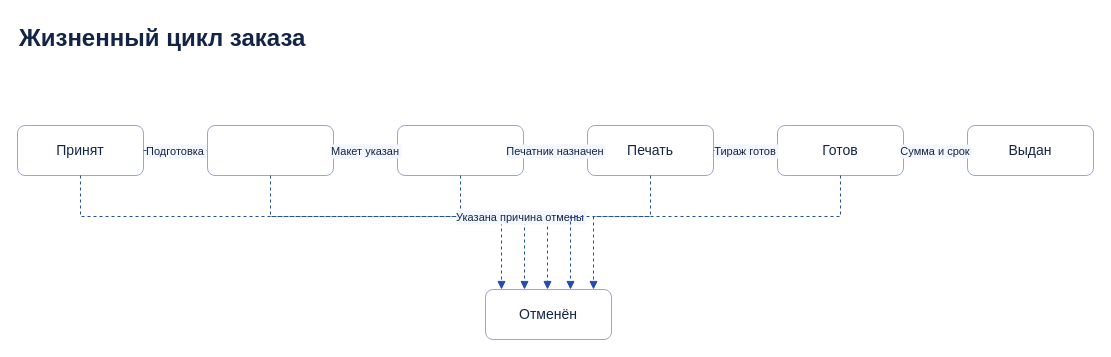
Some shapes in this 1111 by 357 pixel diagram are drawn without their labels. Each missing label, with the centre of its shape:
Макет: pixel 270 150
Согласован: pixel 460 150
